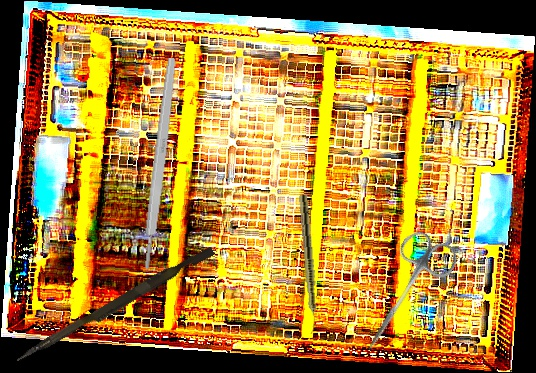Handpiece: (296, 194, 321, 335)
Iris Scissors: (345, 224, 463, 367)
Pusher: (15, 241, 215, 370)
Scalpel Handle: (139, 57, 179, 270)
